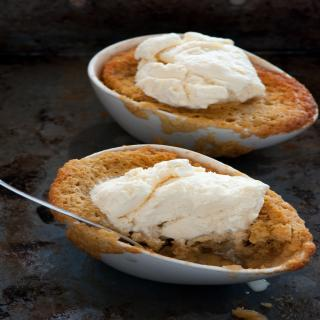Ice cream: (95, 156, 274, 252), (125, 29, 272, 106)
